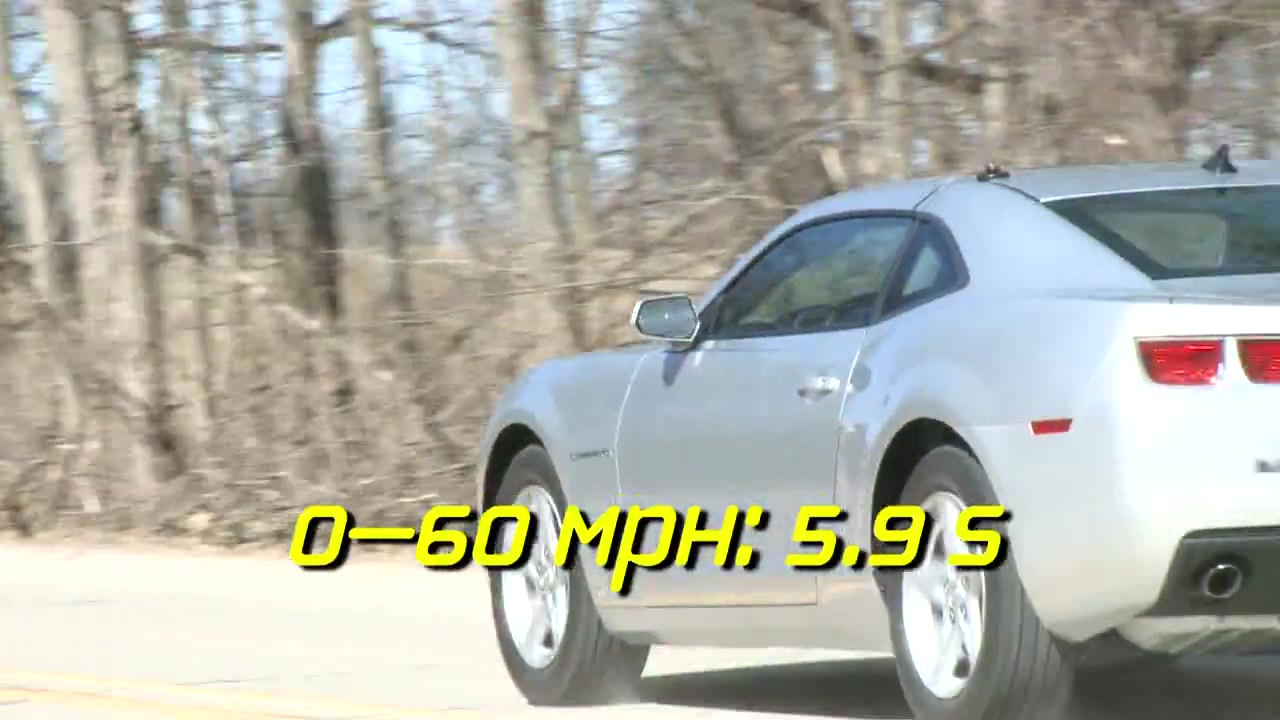car: (474, 150, 1280, 720)
